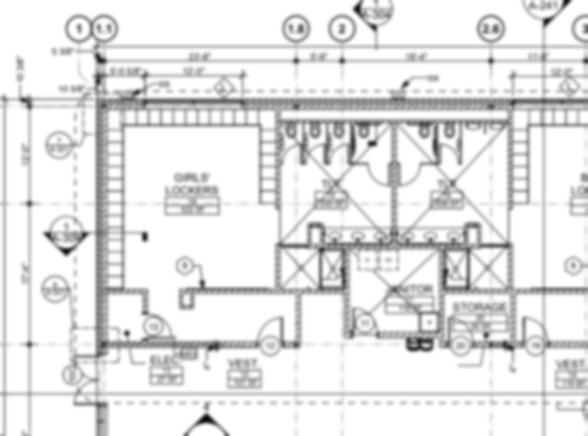door: (255, 314, 288, 345), (445, 315, 476, 345), (520, 316, 551, 345), (366, 160, 392, 188), (398, 161, 423, 188), (437, 142, 461, 167), (281, 139, 303, 165), (306, 141, 327, 167), (328, 142, 351, 165)
double door: (73, 353, 98, 406)
